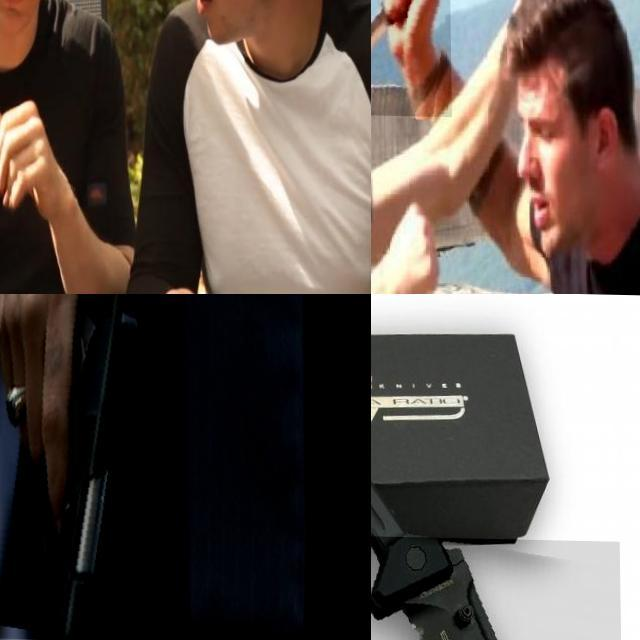-: (371, 534, 623, 640), (371, 0, 451, 116), (0, 214, 40, 294)
gun-knife-thesis - v11 Yolov5 augmented: (0, 294, 188, 640)
